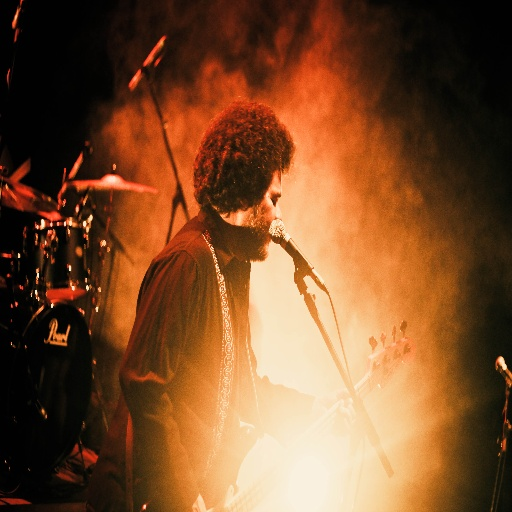hand: (310, 386, 355, 440), (188, 495, 206, 511)
